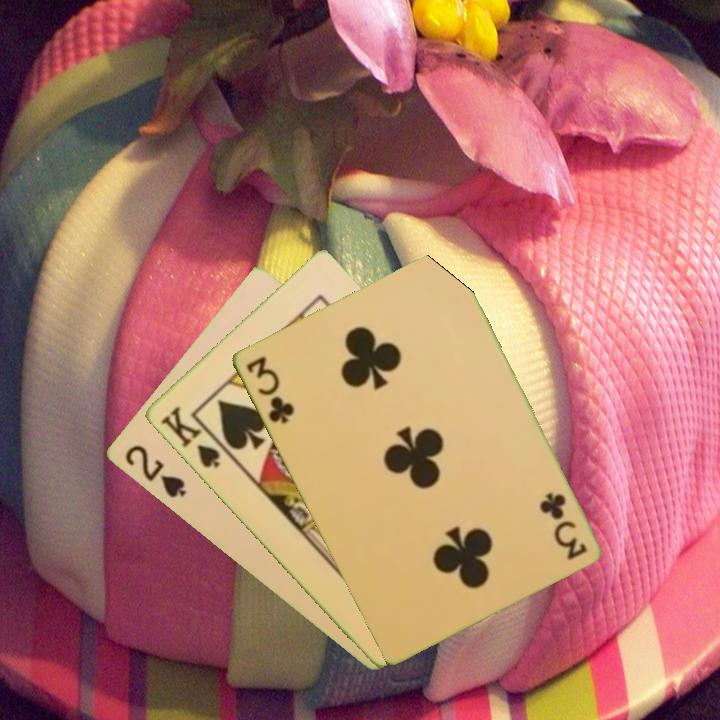2s: (120, 441, 189, 501)
3c: (242, 352, 297, 427), (538, 488, 590, 562)
Ks: (156, 402, 223, 471)
